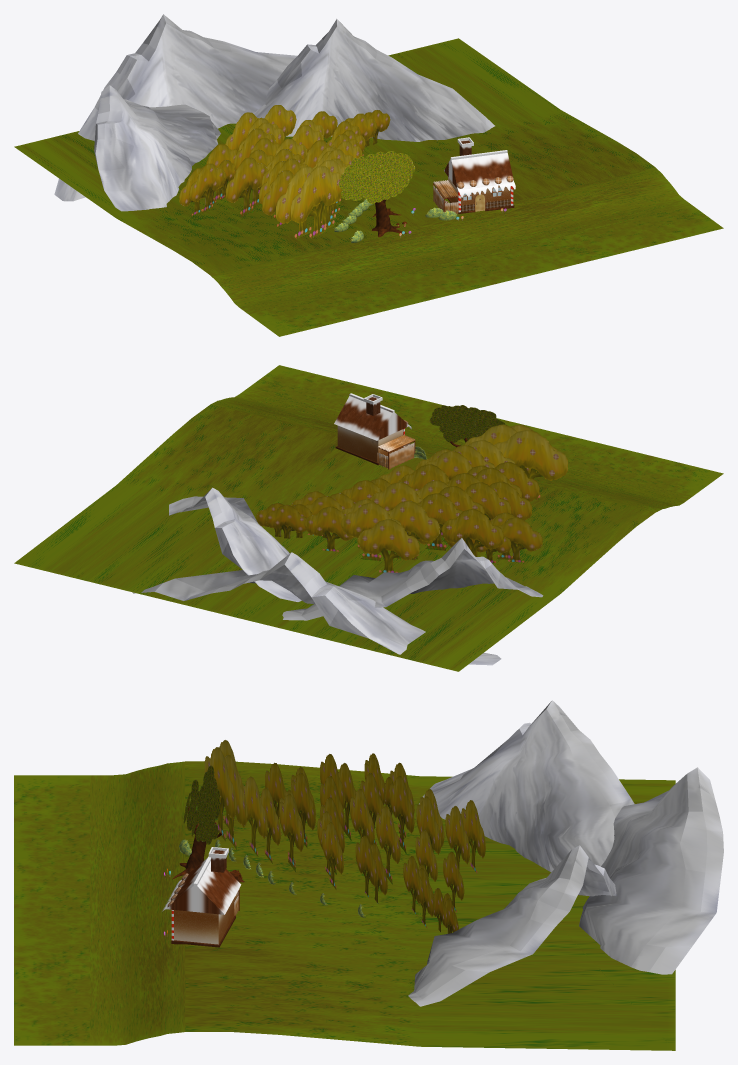
Rendered from 309_bg_pumpking.fbx.
3 views of the same model, one above another, from view 1: azimuth 30°, elevation 25°; view 2: azimuth 150°, elevation 25°; view 3: azimuth 270°, elevation 25° (orthographic). The views are drawn at different scales.
Parts seen in each view (by area): view 1: pPlane1, _bg_grassB:polySurface1, _bg_grassB:polySurface17, _bg_grassB:polySurface18, pPlane8, pCube2, pPlane197, pPlane177, pPlane205, pPlane194, pPlane199, pPlane198 (+3 smaller); view 2: pPlane1, _bg_grassB:polySurface17, _bg_grassB:polySurface18, _bg_grassB:polySurface1, pPlane177, pPlane198, pCube2, pPlane202, pPlane201, pPlane199, pCube32, pPlane190 (+13 smaller); view 3: pPlane1, _bg_grassB:polySurface17, _bg_grassB:polySurface18, _bg_grassB:polySurface1, pCube2, pCube32, pPlane8, pPlane3, pPlane2, pPlane188, pPlane200, pPlane199 (+15 smaller).
Part boxes in pixels (x1,y1,x2,y2): pPlane1: (14,38,723,336); _bg_grassB:polySurface1: (253,19,494,141); _bg_grassB:polySurface17: (54,14,297,201); _bg_grassB:polySurface18: (94,85,220,211); pPlane8: (291,166,342,238); pCube2: (444,153,514,190); pPlane197: (225,157,267,217); pPlane177: (276,166,313,239); pPlane205: (189,163,225,212); pPlane194: (262,170,294,226); pPlane199: (264,105,296,136); pPlane198: (225,112,261,151); pPlane1: (14,365,723,671); _bg_grassB:polySurface17: (132,552,501,665); _bg_grassB:polySurface18: (282,538,543,620); _bg_grassB:polySurface1: (169,487,301,601); pPlane177: (494,429,567,499); pPlane198: (357,519,419,572); pCube2: (334,396,409,440); pPlane202: (441,509,503,556); pPlane201: (387,500,439,559); pPlane199: (340,502,401,560); pCube32: (337,425,403,462); pPlane190: (304,506,353,551); pPlane1: (14,761,675,1050); _bg_grassB:polySurface17: (579,767,723,974); _bg_grassB:polySurface18: (419,700,634,872); _bg_grassB:polySurface1: (408,845,616,1006); pCube2: (166,857,241,914); pCube32: (174,898,234,944); pPlane8: (204,747,236,841); pPlane3: (279,793,304,871); pPlane2: (243,776,267,856); pPlane188: (376,805,400,884); pPlane200: (389,776,414,853); pPlane199: (445,806,470,869).
Size of the model in its own units: 7451 by 1759 by 8263.
